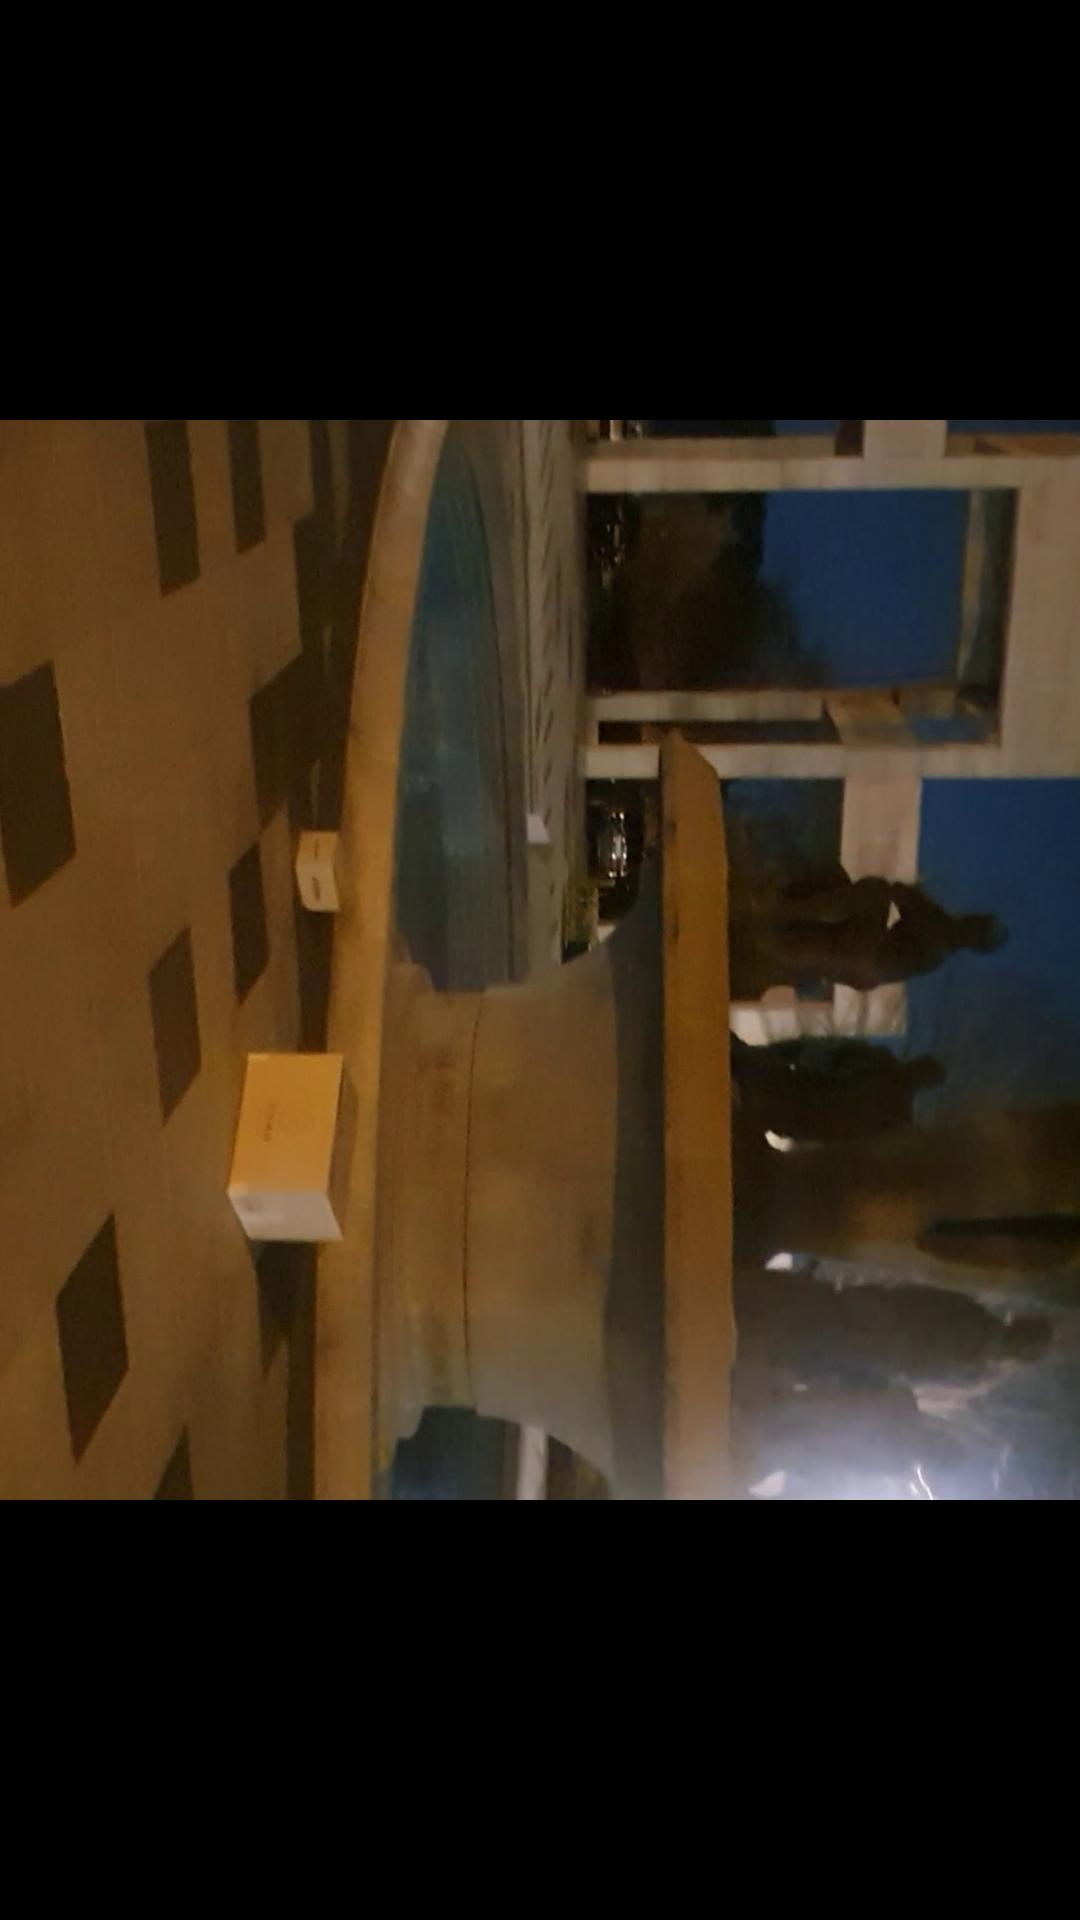Box: (215, 1038, 365, 1257), (272, 803, 382, 940)
